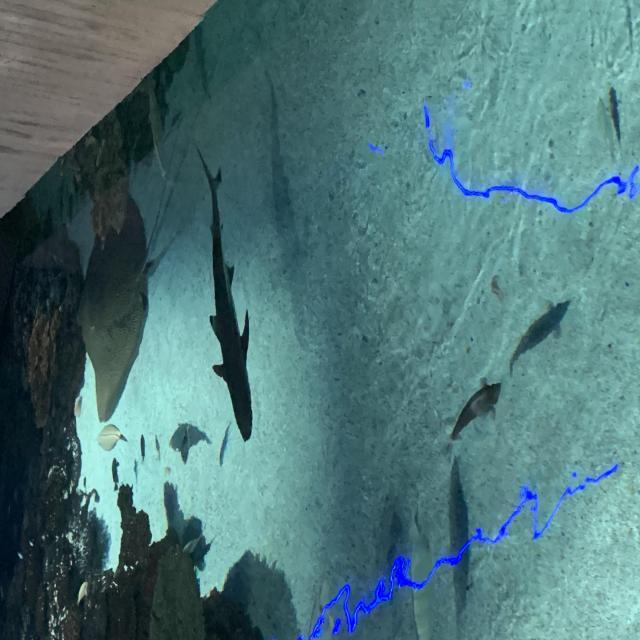fish: (508, 297, 574, 377), (443, 376, 502, 447), (607, 86, 625, 162), (95, 424, 124, 454), (218, 420, 233, 470), (181, 425, 192, 468), (111, 456, 120, 494), (139, 433, 147, 463)
shark: (209, 168, 253, 442)
stingray: (74, 187, 150, 423)
